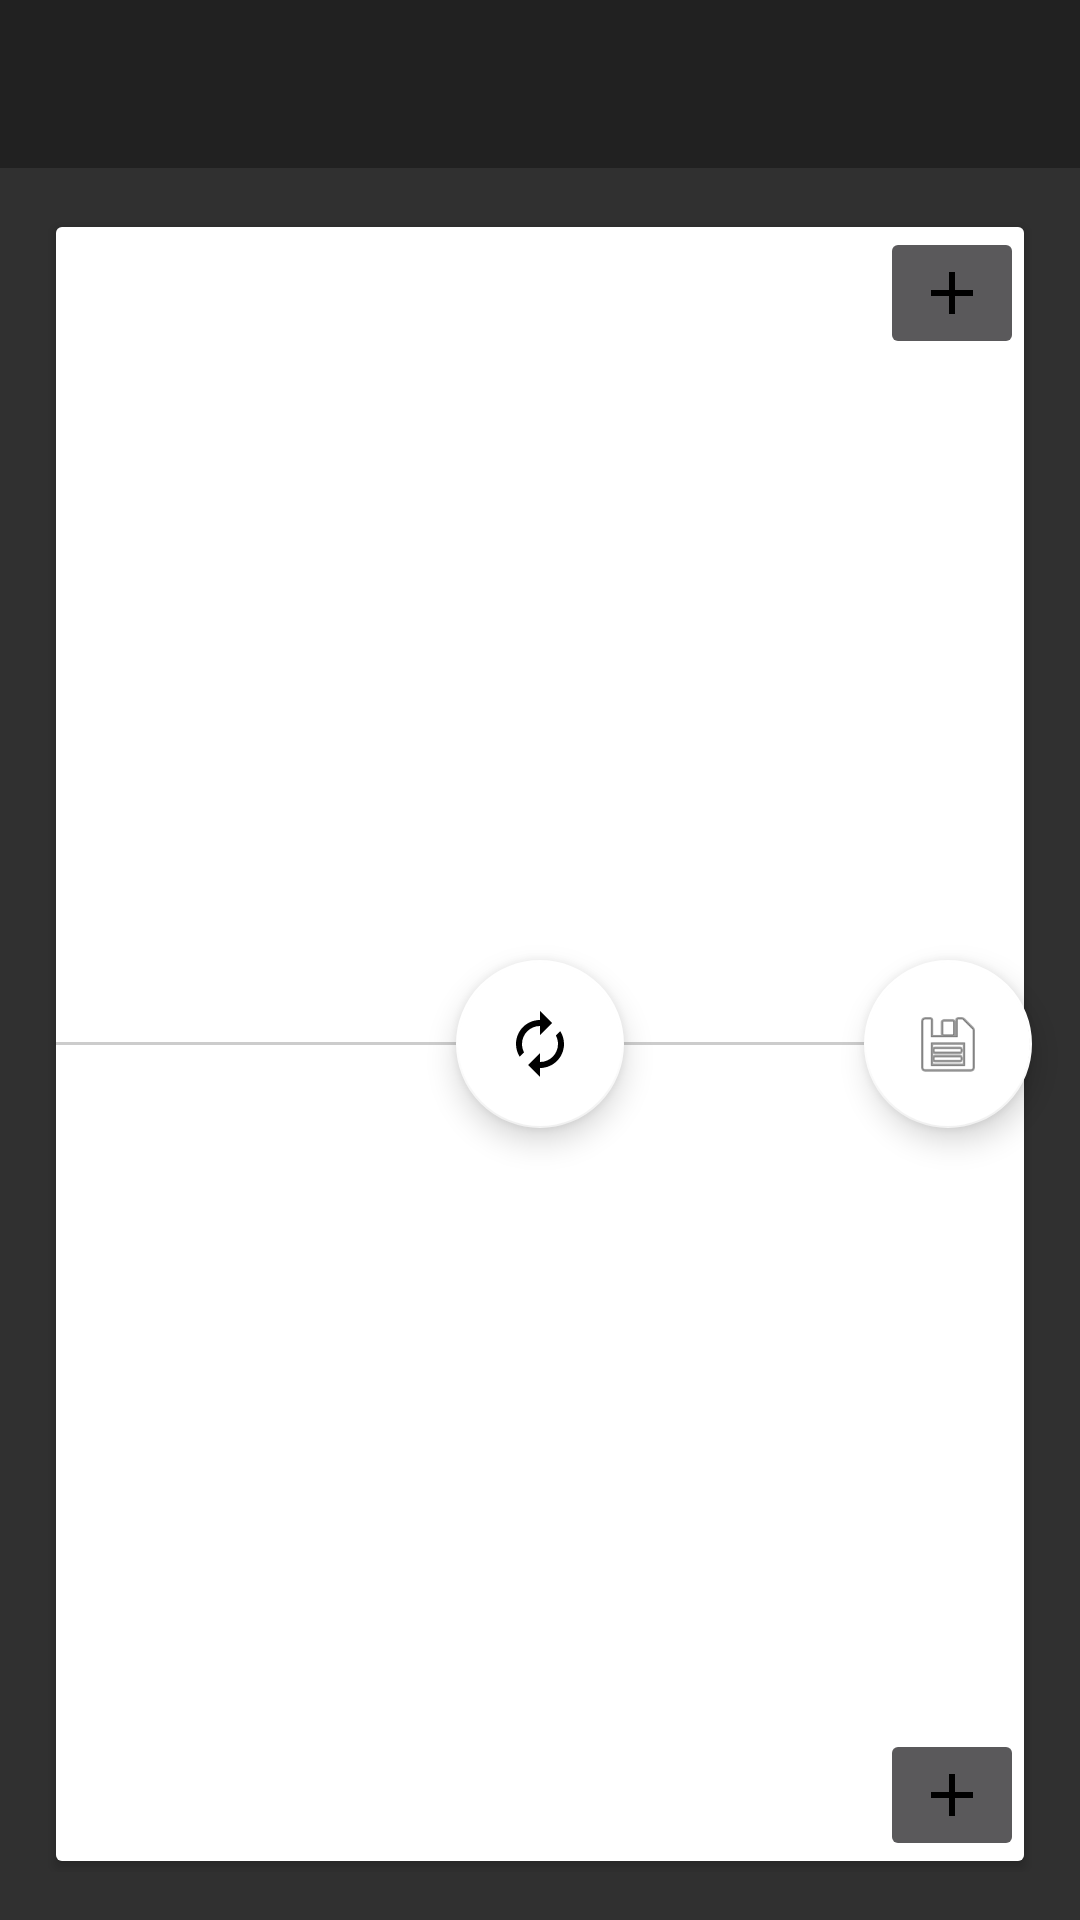

Screen size 1080 x 1920. Icon name, then its center in pixels as (x,y):
add: (952,293), (952,1795)
